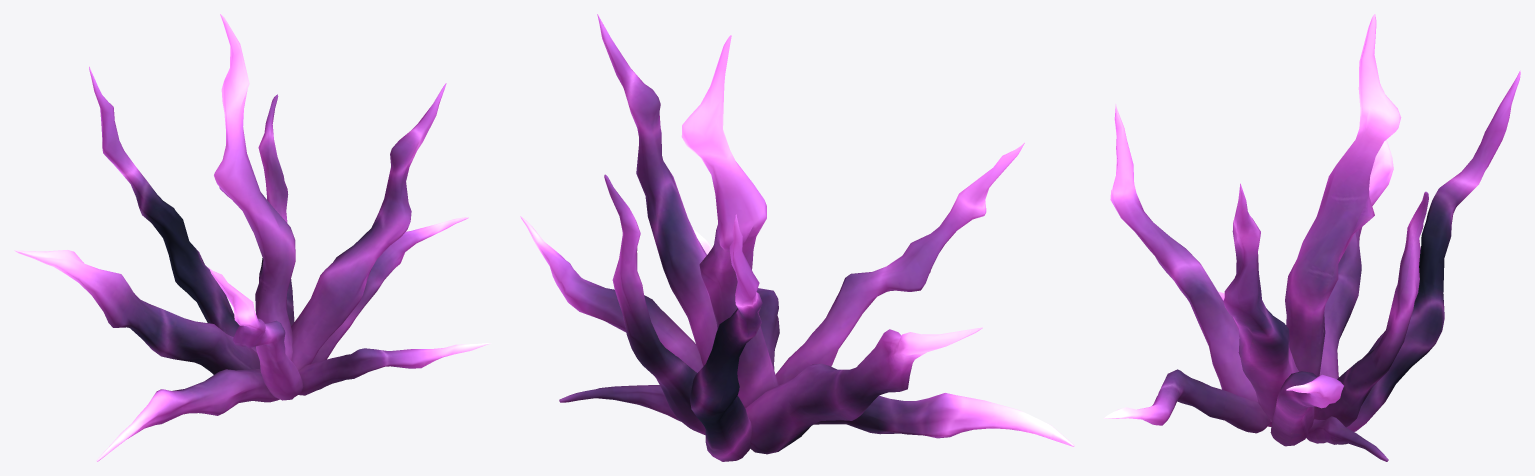
The model's file is caos_drs_chaosbush_01a_v35.glb.
3 views of the same model, side by side, from view 1: azimuth 30°, elevation 25°; view 2: azimuth 150°, elevation 25°; view 3: azimuth 270°, elevation 25° (orthographic). The views are drawn at different scales.
Visible parts, largest first — view 1: caos_drs_chaosbush_01a; view 2: caos_drs_chaosbush_01a; view 3: caos_drs_chaosbush_01a.
Part boxes in pixels (x1,y1,x2,y2): caos_drs_chaosbush_01a: (14, 14, 491, 461); caos_drs_chaosbush_01a: (520, 14, 1074, 461); caos_drs_chaosbush_01a: (1103, 14, 1520, 461).
Bounding box in the file's own units: 1.48 × 1.23 × 1.13.
1 material, 1 textured.
